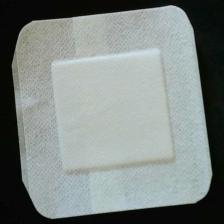Dressing: (13, 5, 217, 222)
